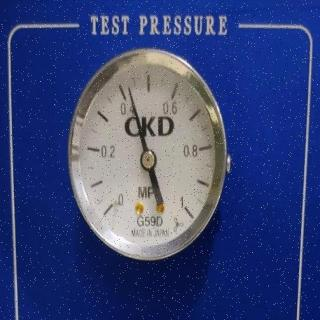gauge: (57, 13, 233, 291), (176, 194, 200, 226), (101, 193, 123, 216), (139, 148, 157, 170), (124, 84, 134, 96)
